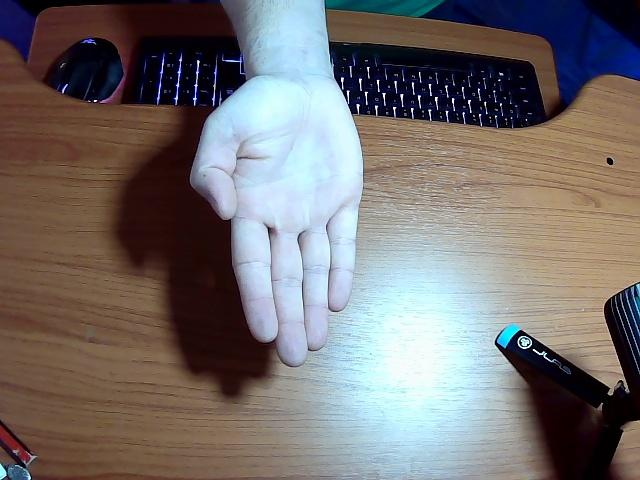paper: (190, 0, 362, 366)
